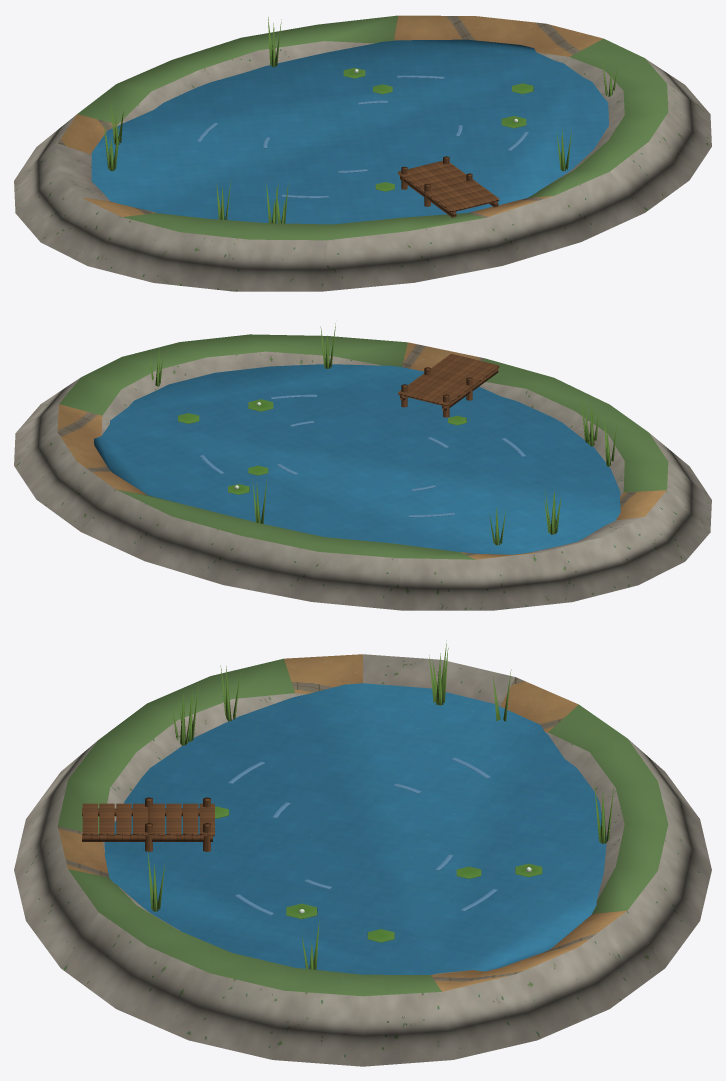
Rendered from lake.glb.
3 renders of one model, top to bottom at view 1: azimuth 30°, elevation 25°; view 2: azimuth 150°, elevation 25°; view 3: azimuth 270°, elevation 25°, orthographic. The views are drawn at different scales.
Visible parts, largest first — view 1: scenery.lake.mesh, ripples; view 2: scenery.lake.mesh, ripples; view 3: scenery.lake.mesh, ripples.
Part boxes in pixels (x1,y1,x2,y2): scenery.lake.mesh: (14,15,711,291); ripples: (197,75,528,198); scenery.lake.mesh: (14,323,711,610); ripples: (200,394,525,517); scenery.lake.mesh: (14,640,711,1066); ripples: (228,757,497,915).
Size of the model in its own units: 16 by 1.77 by 12.
8 materials, 6 textured.
